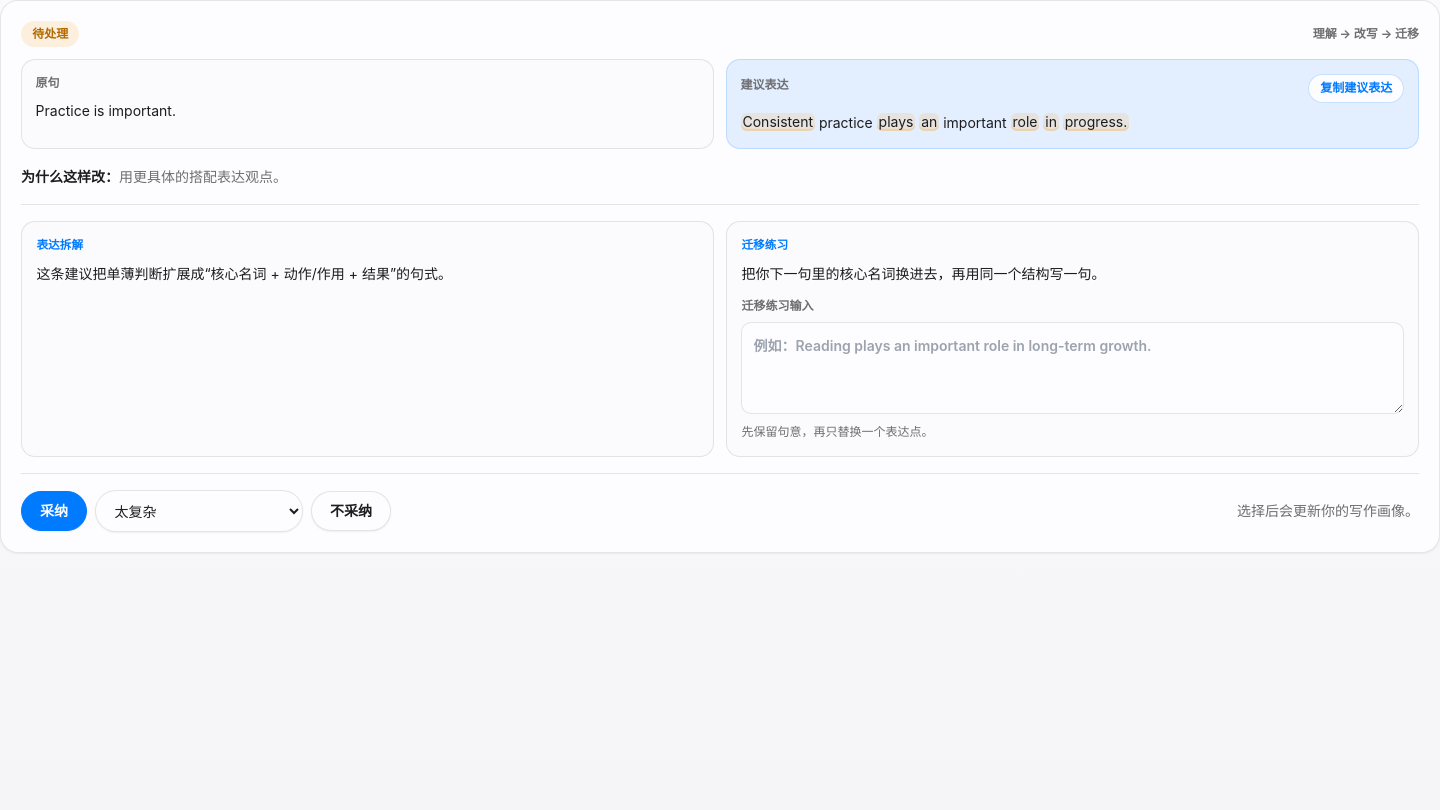
Test case: SuggestionCard › lets users complete a transfer practice before deciding feedback
In the text box labelled "迁移练习输入": (1072, 368) [741,322,1404,414], type "Reading plays an important role in long-term development."
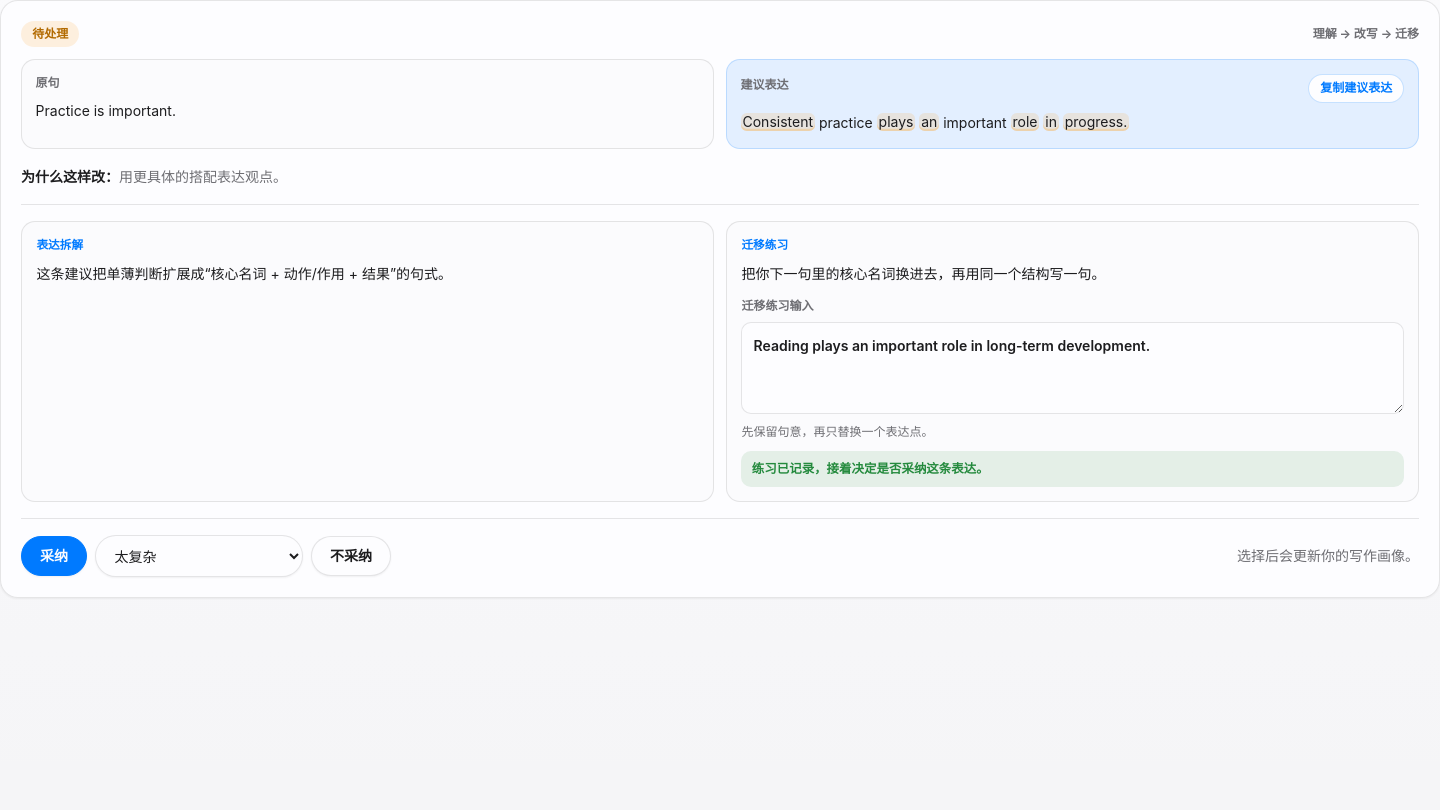
Expected: the text "理解 -> 改写 -> 迁移" is shown, [1313,25,1419,43]
Now the text "练习已记录，接着决定是否采纳这条表达。" is shown, box [741,451,1404,487]
